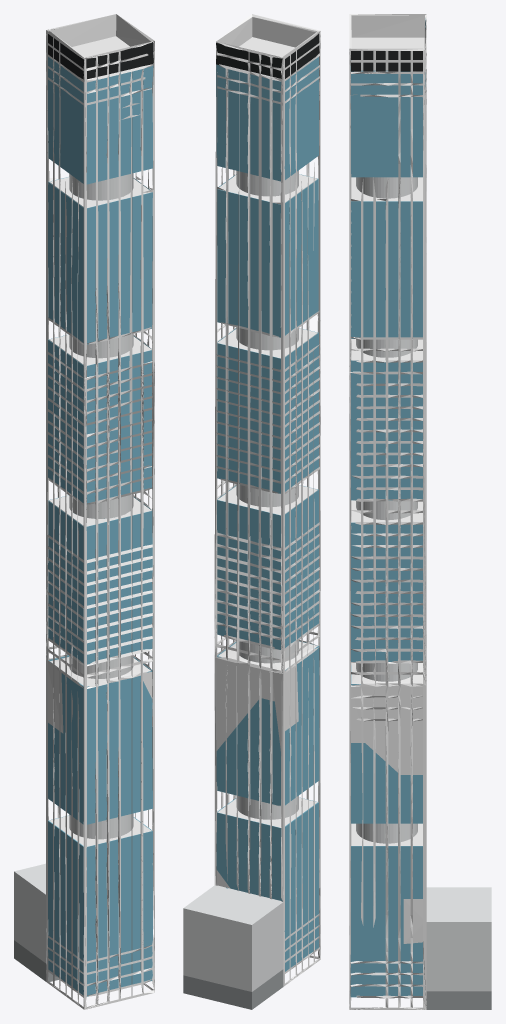
File: park432.glb
3 renders of one model, left to right at view 1: azimuth 30°, elevation 25°; view 2: azimuth 150°, elevation 25°; view 3: azimuth 270°, elevation 25°, orthographic. The views are drawn at different scales.
Visible parts, largest first — view 1: Object_4, Object_3, Object_2, Object_5, Object_6; view 2: Object_4, Object_3, Object_2, Object_6, Object_5; view 3: Object_4, Object_3, Object_2, Object_6, Object_5.
Part boxes in pixels (left/top/right/bottom): Object_4: left=48, top=57, right=153, bottom=996; Object_3: left=46, top=14, right=154, bottom=1009; Object_2: left=14, top=173, right=133, bottom=962; Object_5: left=48, top=34, right=153, bottom=79; Object_6: left=14, top=932, right=58, bottom=981; Object_4: left=216, top=57, right=319, bottom=971; Object_3: left=214, top=14, right=320, bottom=986; Object_2: left=183, top=170, right=298, bottom=991; Object_6: left=183, top=969, right=283, bottom=1009; Object_5: left=216, top=34, right=319, bottom=78; Object_4: left=350, top=18, right=425, bottom=997; Object_3: left=349, top=14, right=426, bottom=1009; Object_2: left=356, top=177, right=491, bottom=991; Object_6: left=426, top=991, right=491, bottom=1009; Object_5: left=351, top=20, right=425, bottom=71.
Bounding box in the file's own units: 11.72 × 151 × 20.27.
